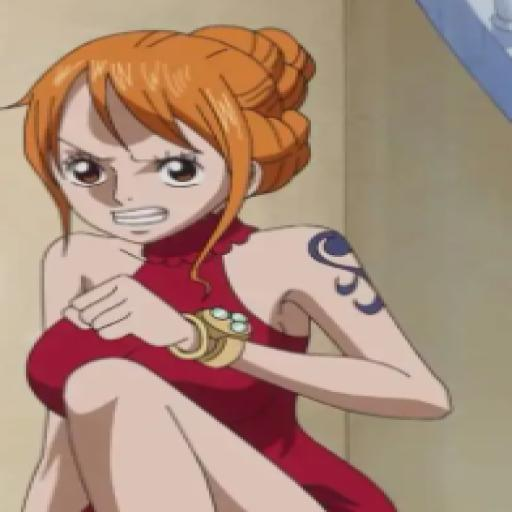Nami: (1, 21, 453, 512)
